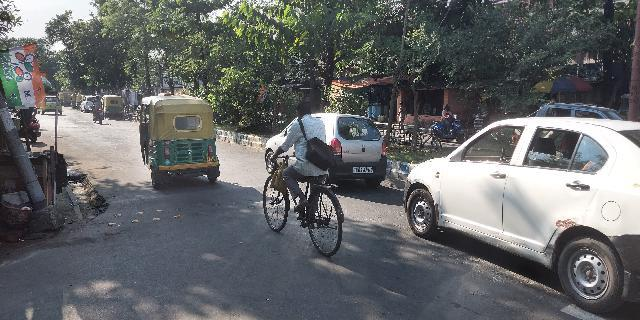Autorickshaw: (133, 90, 227, 187), (99, 93, 126, 121)
Car: (399, 112, 640, 311), (264, 108, 389, 190)
Cycle: (257, 102, 347, 264)
